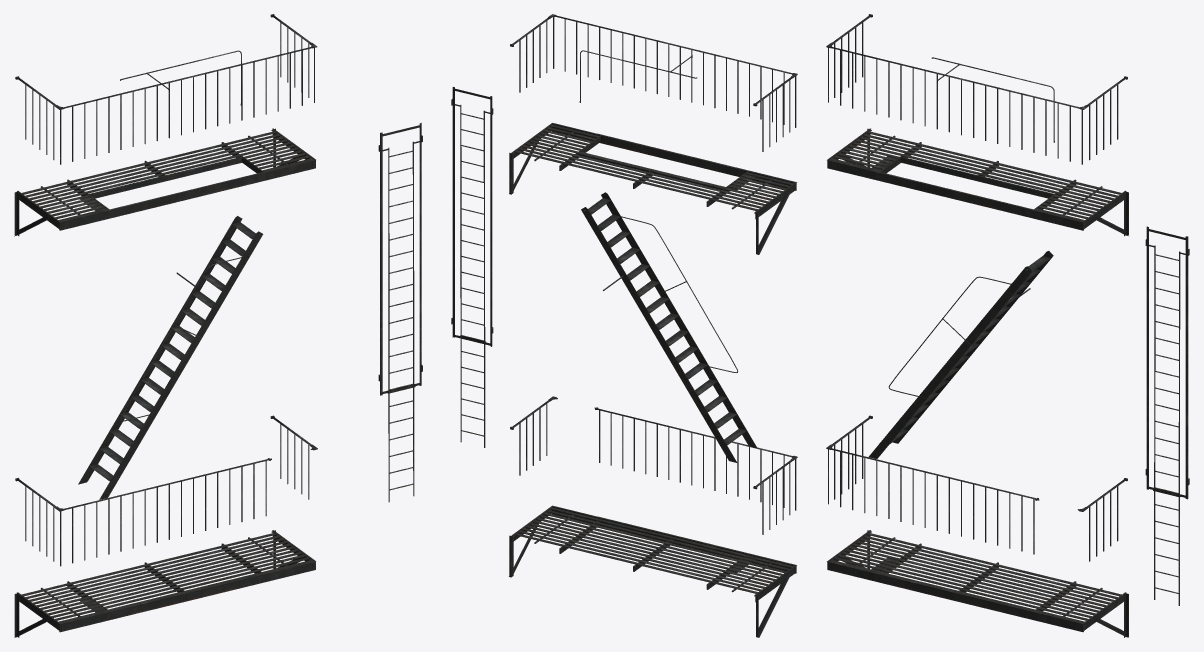
The model's file is modular_fire_escape.glb.
The picture shows the model from 3 angles, left to right: view 1: azimuth 30°, elevation 25°; view 2: azimuth 150°, elevation 25°; view 3: azimuth 330°, elevation 25°; orthographic projection. The views are drawn at different scales.
Visible parts, largest first — view 1: modular_fire_escape_platform_middle, modular_fire_escape_railing_middle; view 2: modular_fire_escape_platform_middle, modular_fire_escape_railing_middle; view 3: modular_fire_escape_platform_middle, modular_fire_escape_railing_middle.
Part boxes in pixels (box(x1,y1,x2,y2)): modular_fire_escape_platform_middle: box(14, 128, 315, 637); modular_fire_escape_railing_middle: box(15, 14, 422, 566); modular_fire_escape_platform_middle: box(509, 123, 796, 637); modular_fire_escape_railing_middle: box(451, 14, 797, 534); modular_fire_escape_platform_middle: box(827, 128, 1128, 637); modular_fire_escape_railing_middle: box(826, 14, 1189, 605).
Bounding box in the file's own units: 6.66 × 9.76 × 1.42.
Materials: 2 (2 with a texture image).
